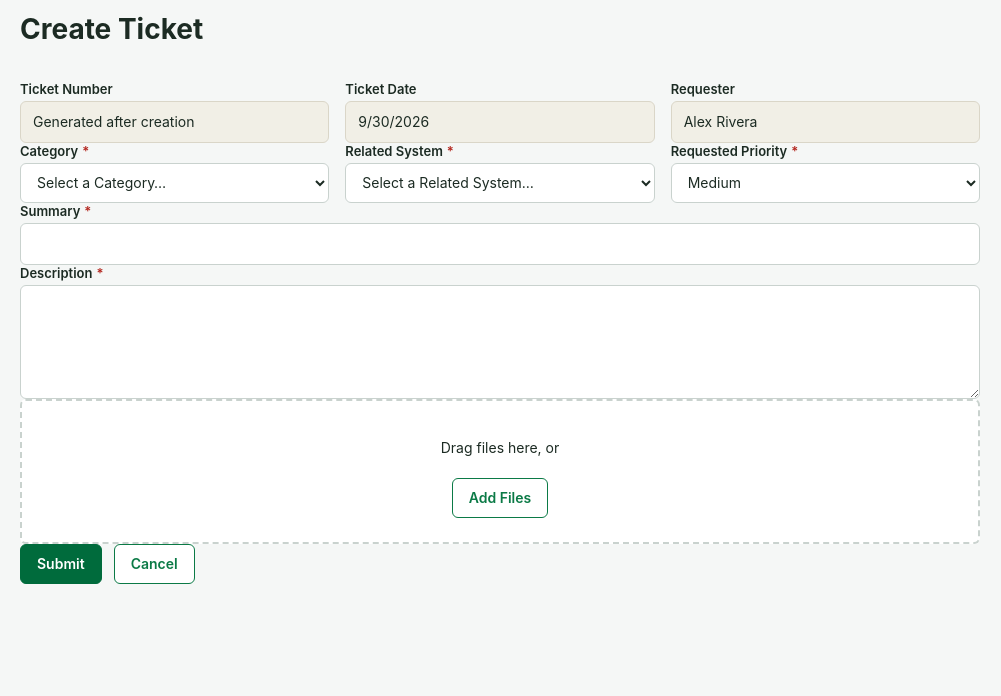
Test: CreateTicketForm › renders the Ticket Number and a View Ticket link on success
Select "Hardware" in the dropdown labelled "Category*" at (175,182), box [20,162,329,202]
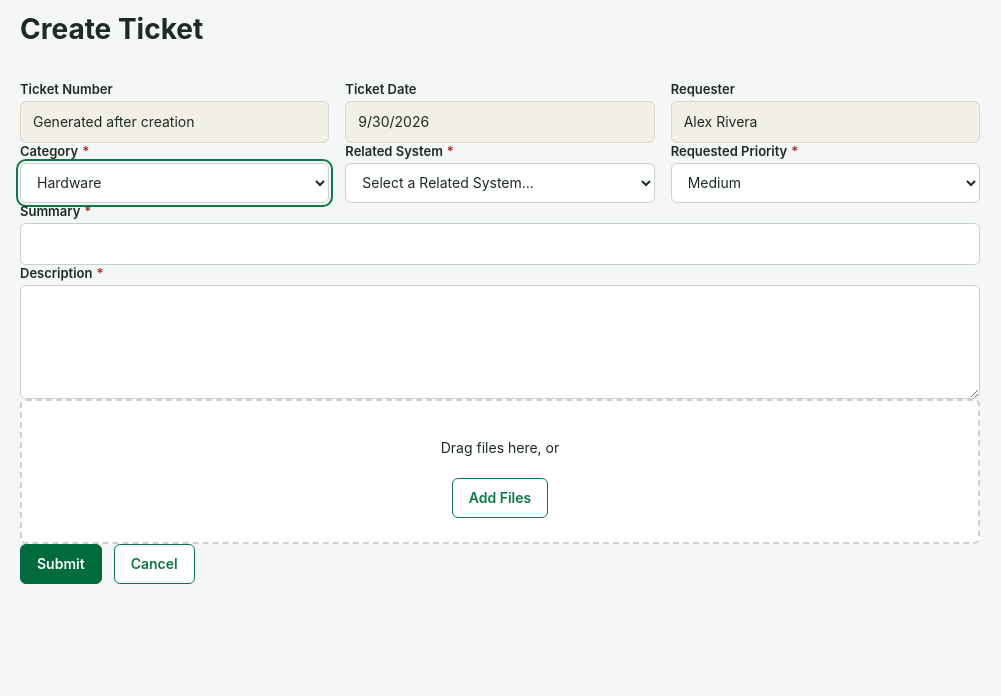
Select "Email" in the dropdown labelled "Related System*" at (500,182), box [345,162,655,202]
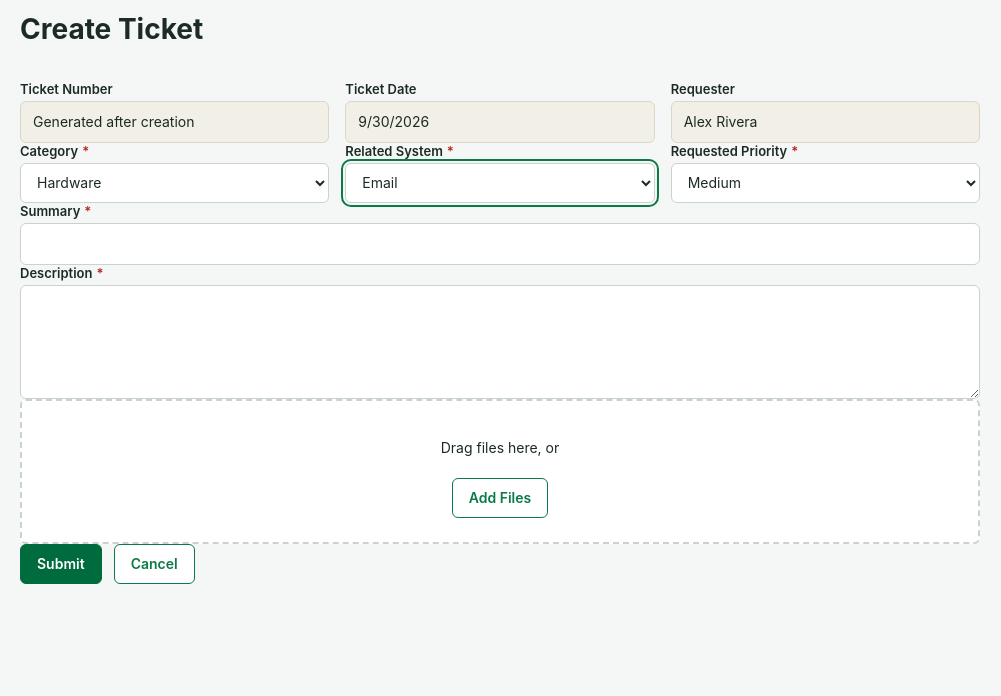
Type "Laptop won't power on" into the field labelled "Summary*" at (500,244), box [20,222,980,264]
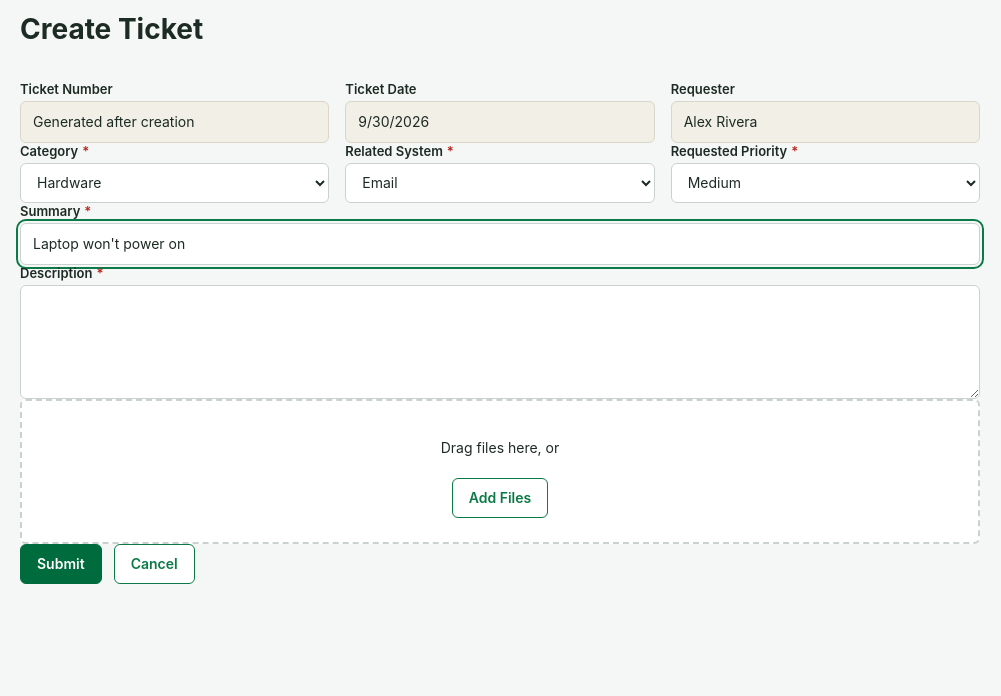
Type "Screen stays black after the firmware update finished overnight." into the text box labelled "Description*" at (500,342), box [20,284,980,398]
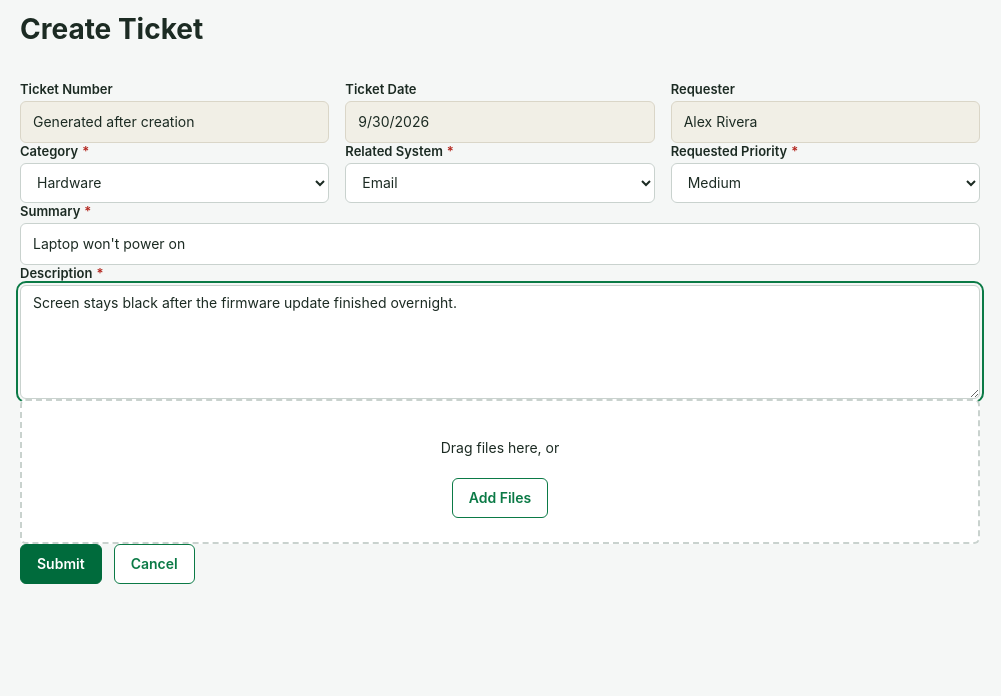
Click the button "Submit" at (61,564), box [20,544,102,584]
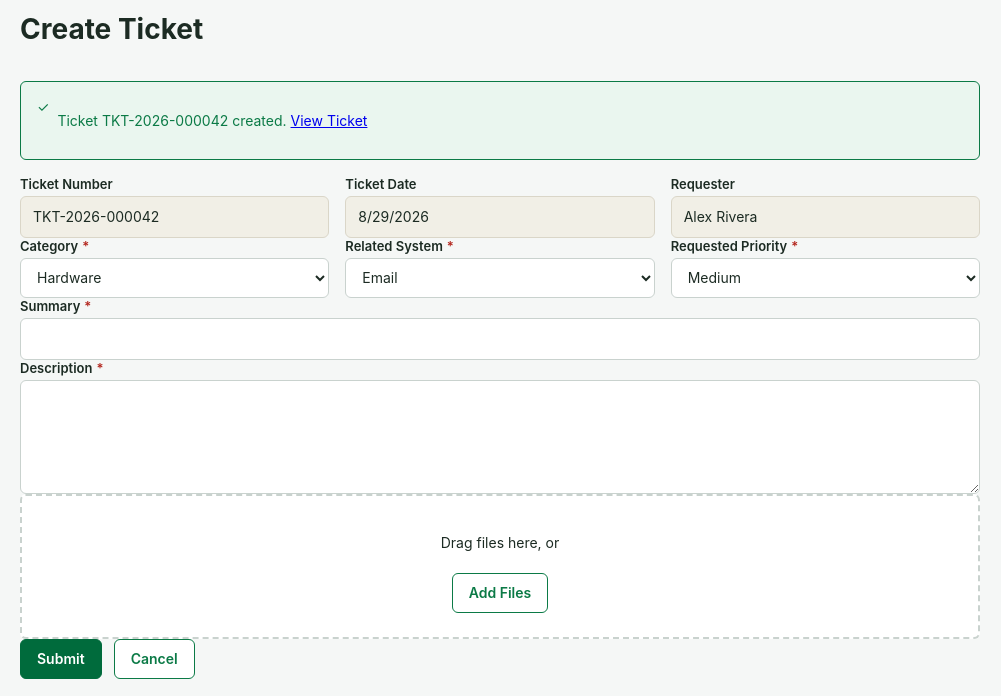
Expected: the text "Ticket TKT-2026-000042 created. View Ticket" is shown, [57,112,367,128]
